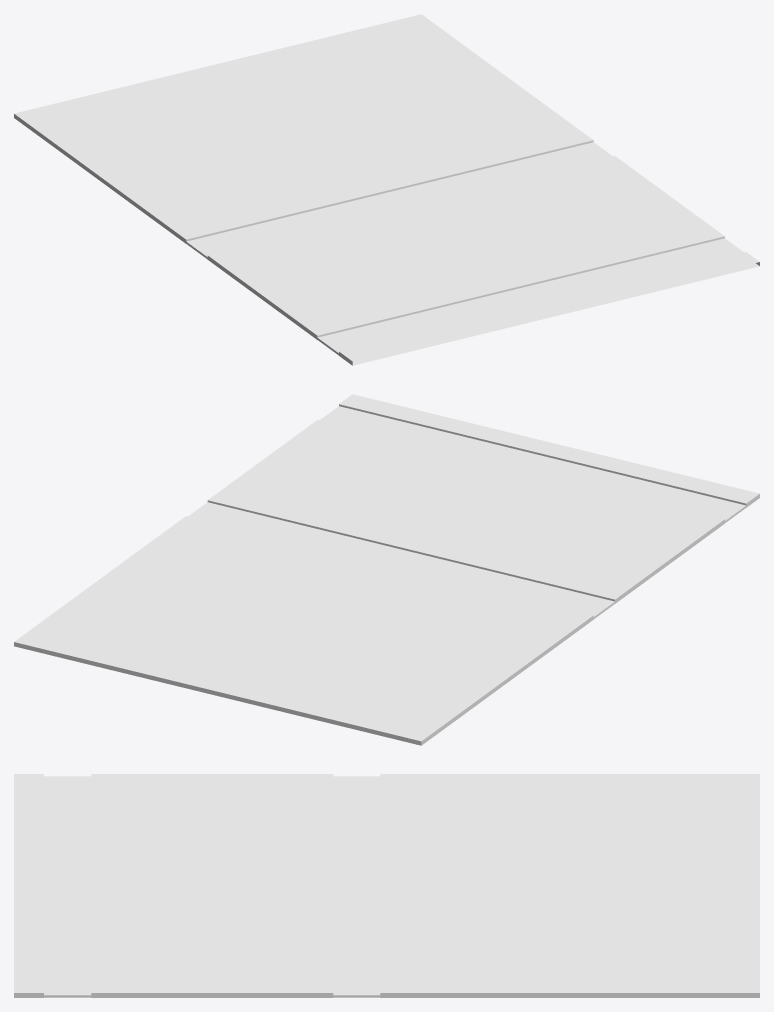
Rendered from Map_Outside.fbx.
3 views of the same model, one above another, from view 1: azimuth 30°, elevation 25°; view 2: azimuth 150°, elevation 25°; view 3: azimuth 270°, elevation 25° (orthographic). The views are drawn at different scales.
Parts seen in each view (by area): view 1: Map_Outside; view 2: Map_Outside; view 3: Map_Outside.
Boxes of the visible parts, x1,y1,x2,y2 form: Map_Outside: (14,14,759,365); Map_Outside: (14,394,759,745); Map_Outside: (14,774,759,997).
Bounding box in the file's own units: 124 × 1.27 × 179.
